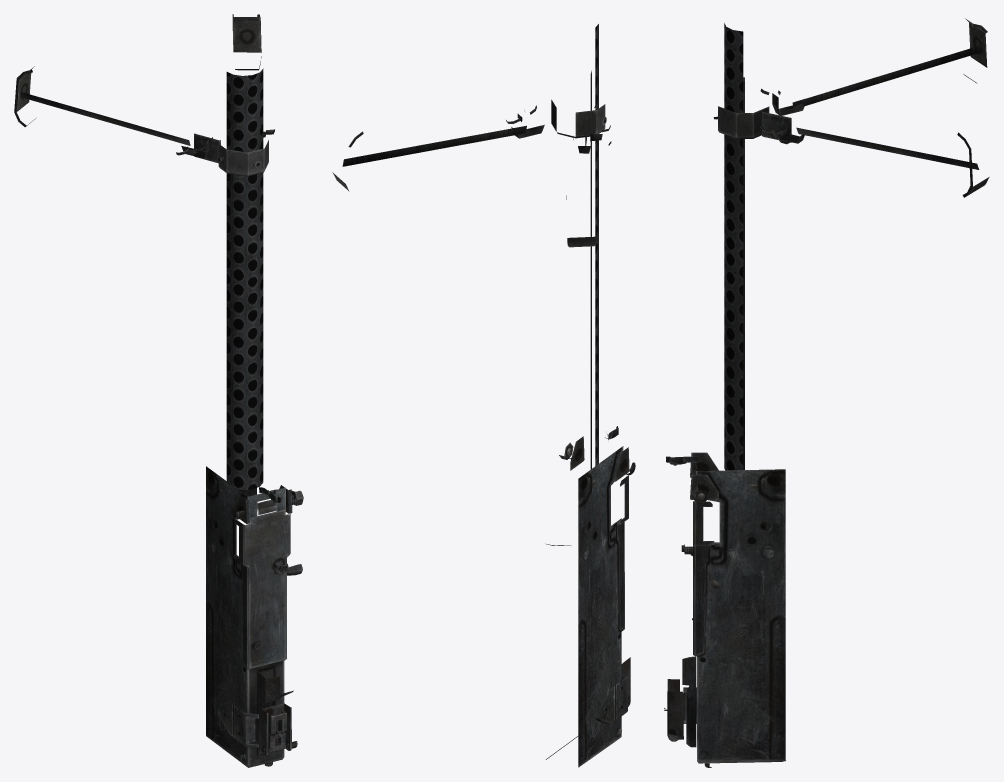
The model's file is viewmodel_30cal.glb.
The picture shows the model from 3 angles, left to right: view 1: azimuth 30°, elevation 25°; view 2: azimuth 150°, elevation 25°; view 3: azimuth 270°, elevation 25°; orthographic projection. The views are drawn at different scales.
Size of the model in its own units: 17.28 by 45.85 by 18.31.
1 material, 1 textured.
